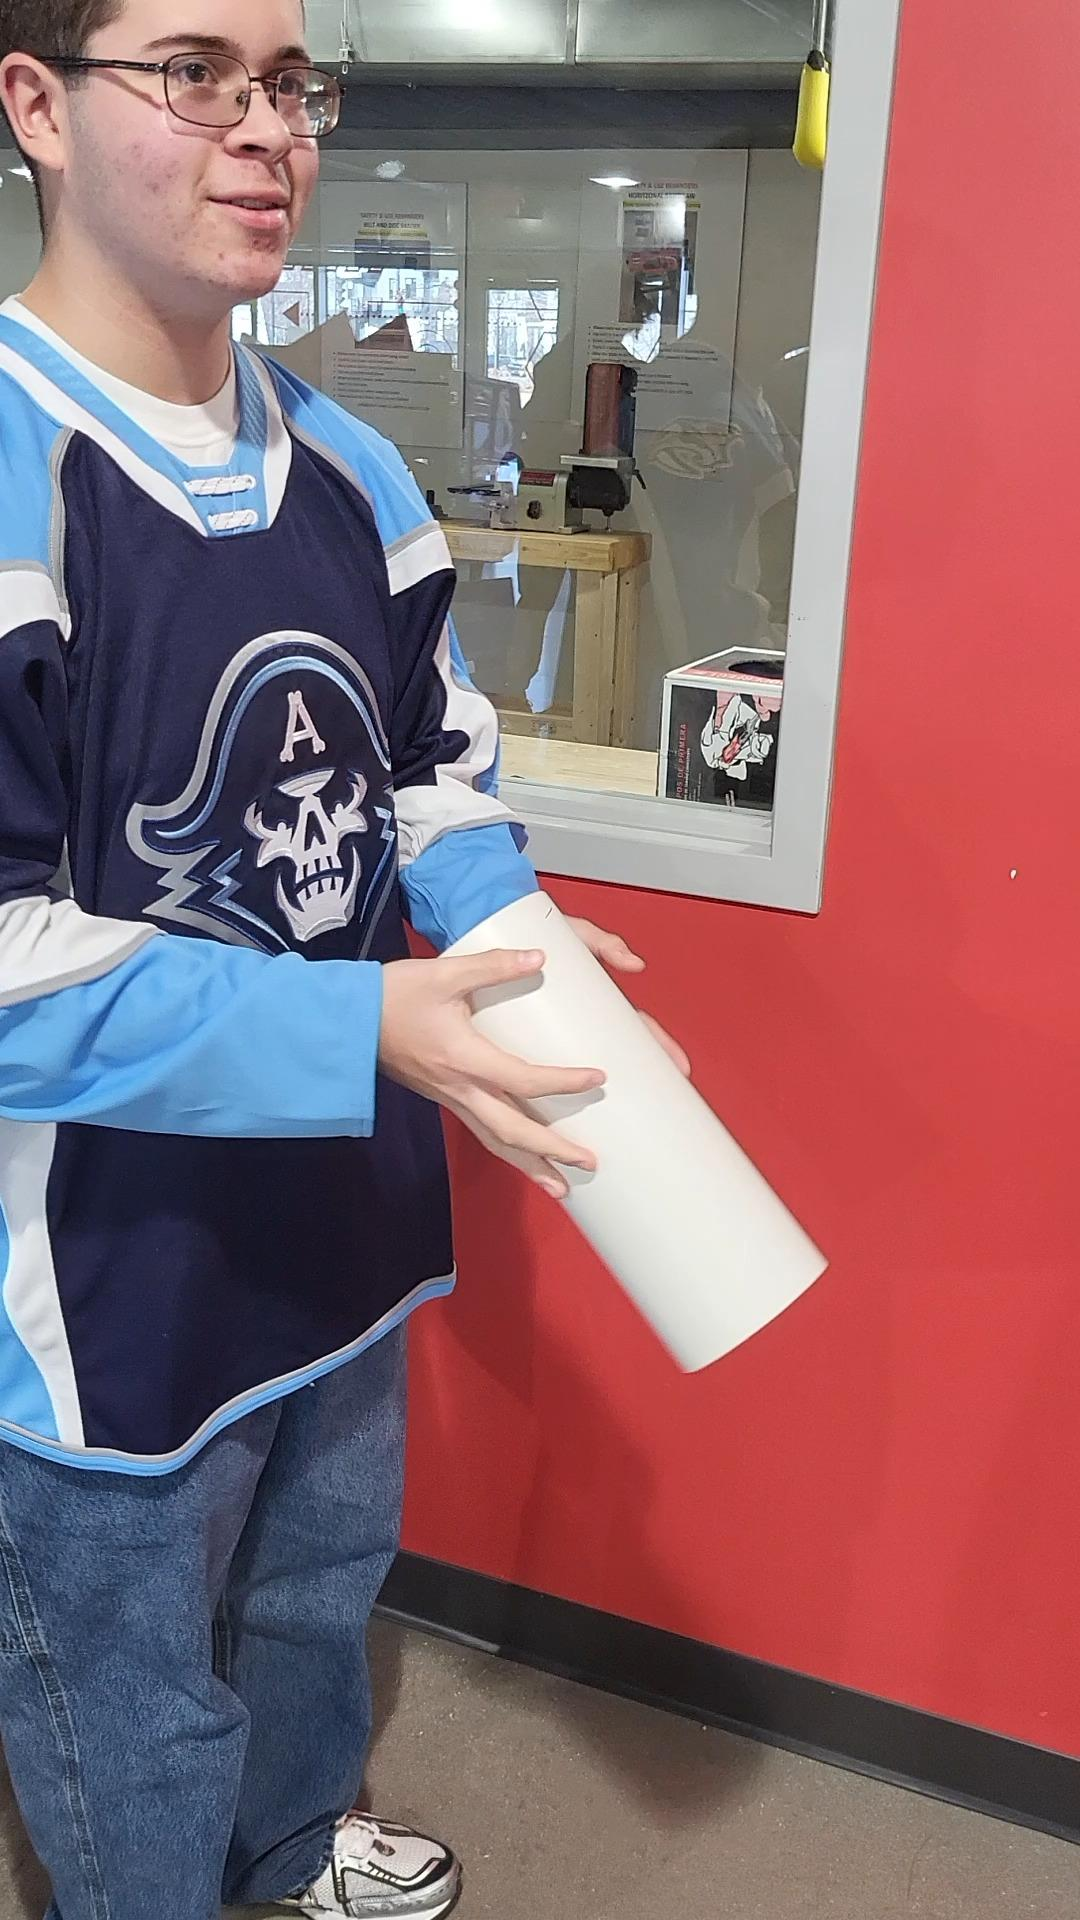coral: (443, 893, 827, 1374)
